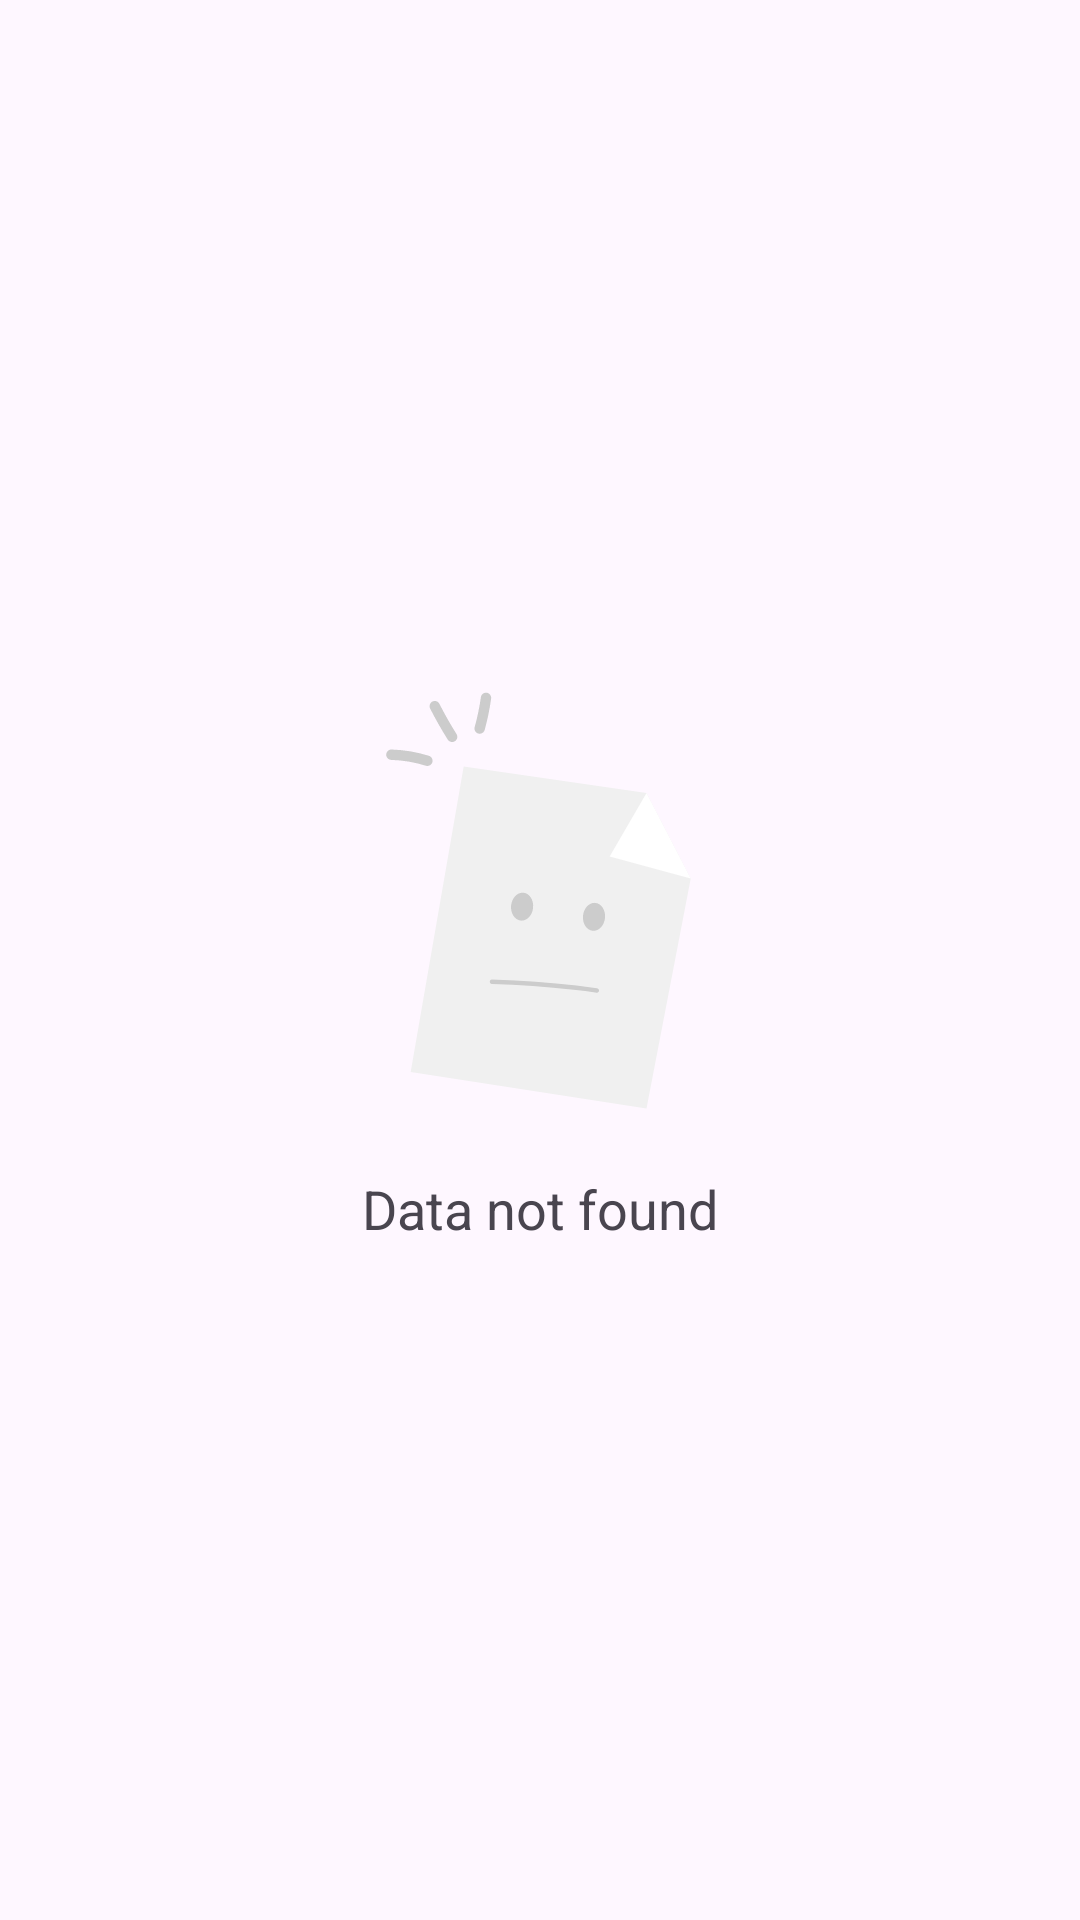

Where to tap for icons on this 1080px×1920px app screen, as point (x, y):
no data: point (495, 843)
